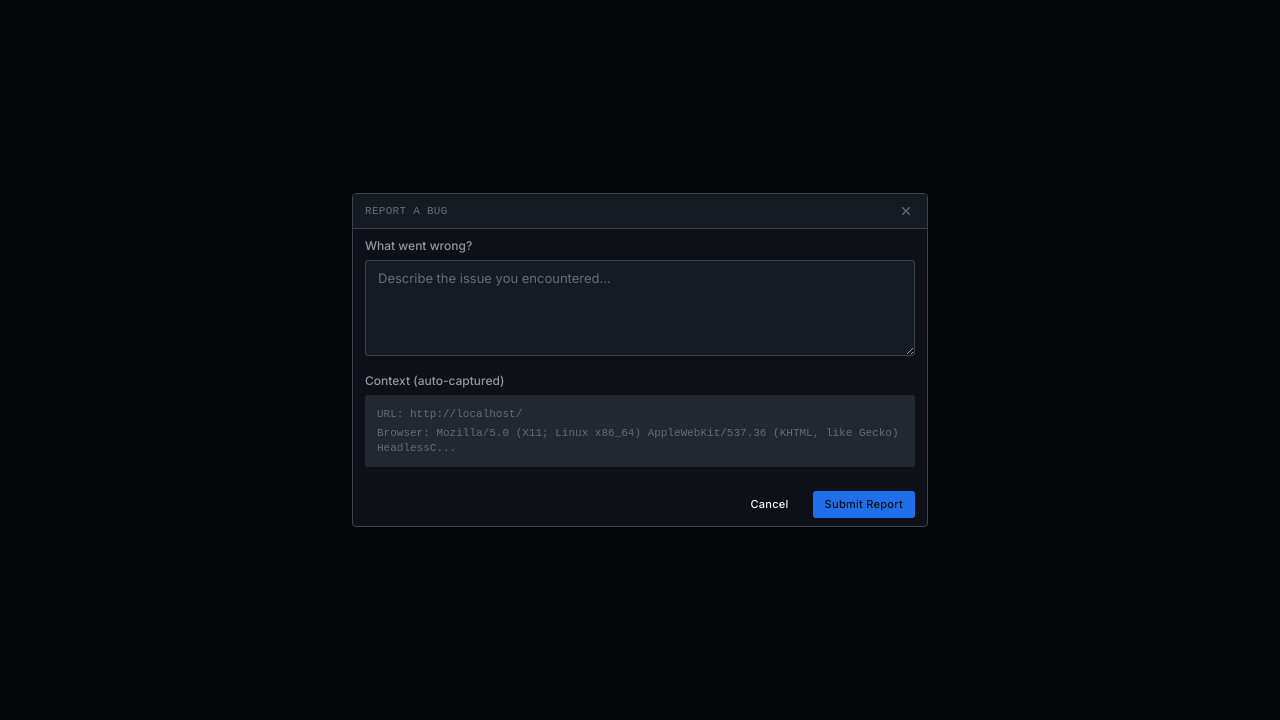
Scenario: BugReportForm › submits the form and shows success message
Type "Something is broken" into the text box labelled "What went wrong?" at (640, 308), box [365,260,915,356]
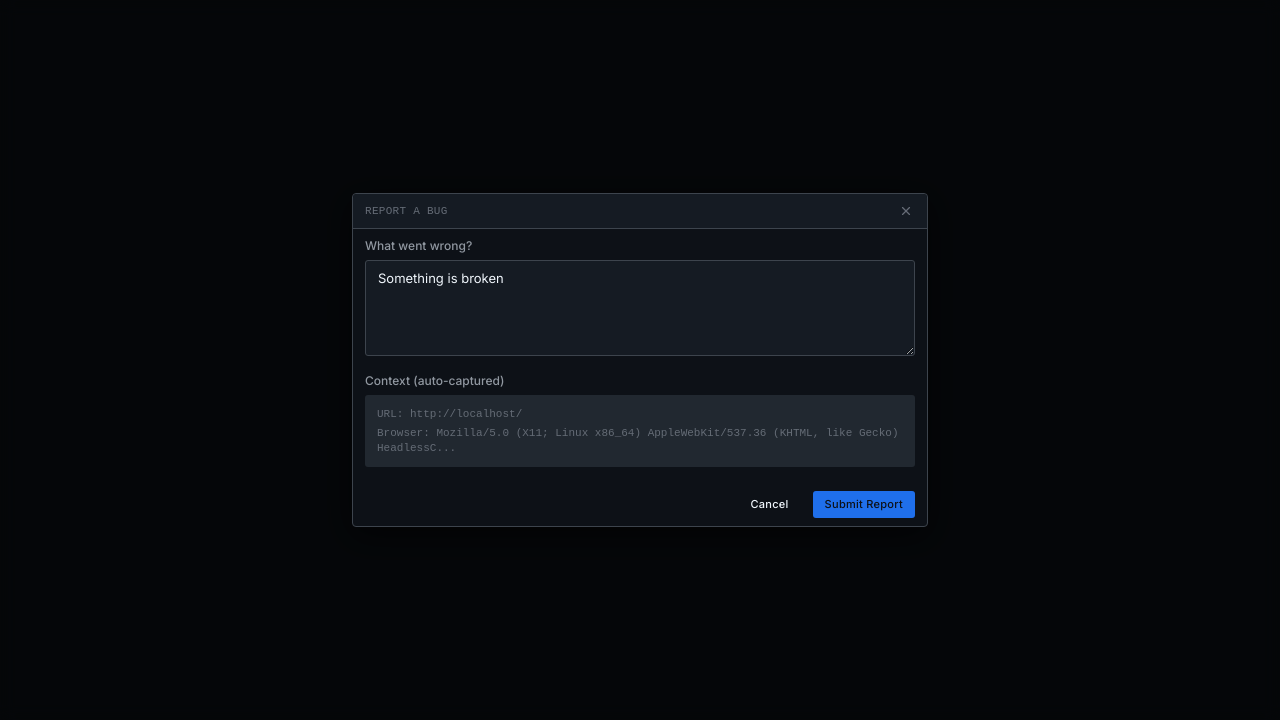
Click the button "Submit Report" at (864, 505), box [813,491,915,518]
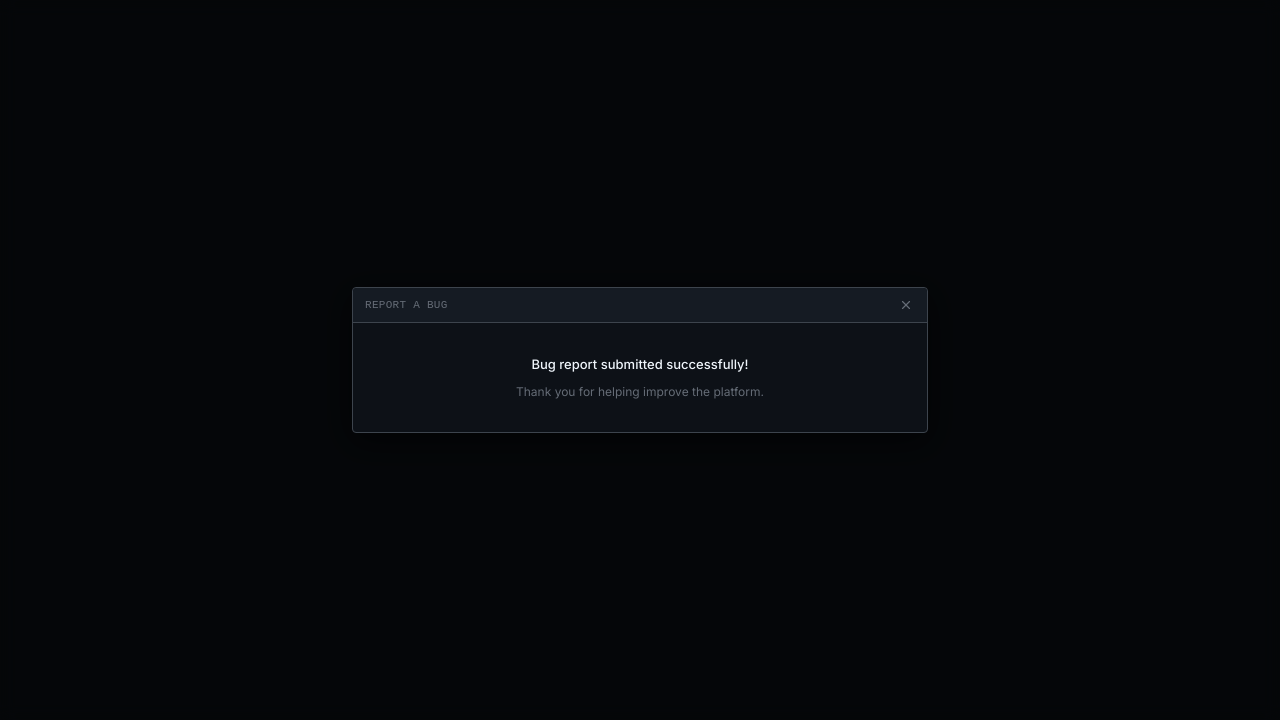
Expected: the text "Bug report submitted successfully!" is shown, [531,356,748,372]
